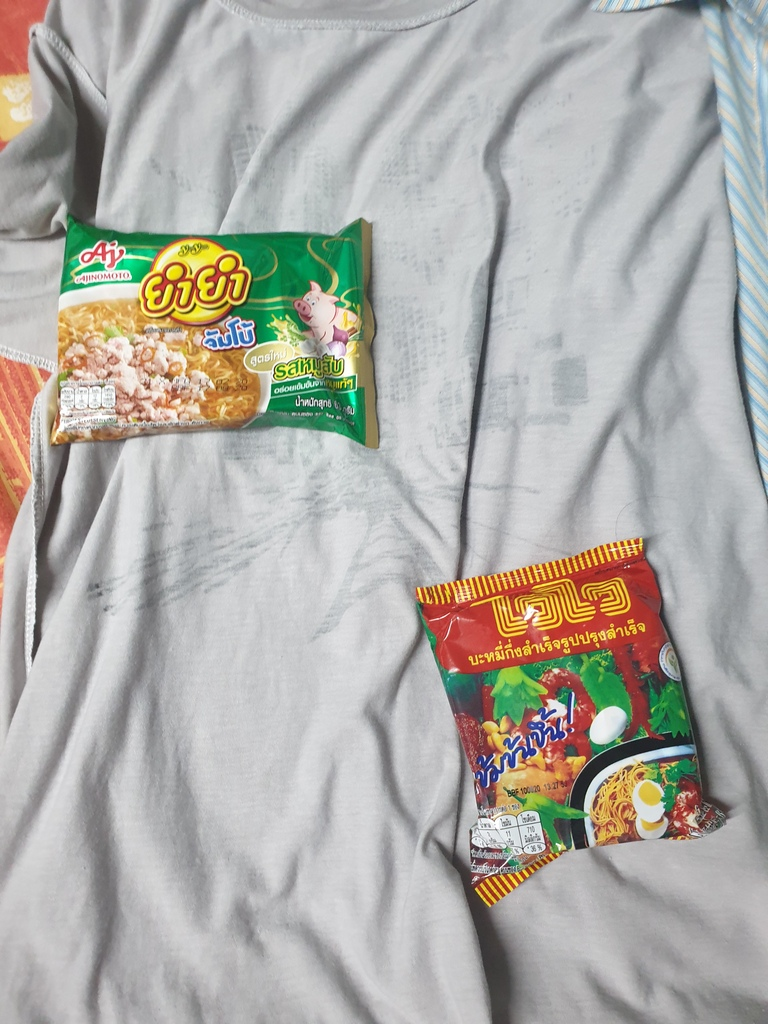waiwai: (407, 559, 726, 852)
yumyum: (47, 208, 390, 449)
